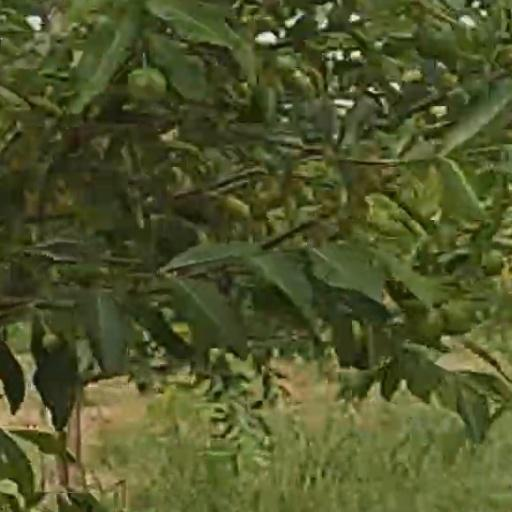acerola_verde: (126, 68, 167, 104), (415, 22, 455, 57), (441, 304, 477, 332)
